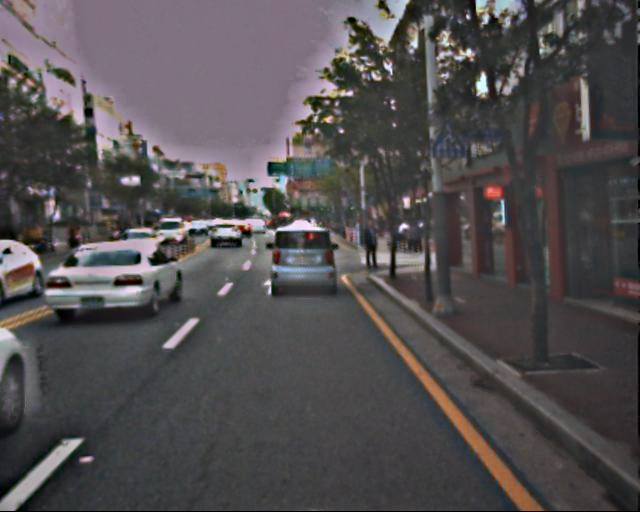person: (361, 218, 382, 270), (400, 222, 422, 254)
